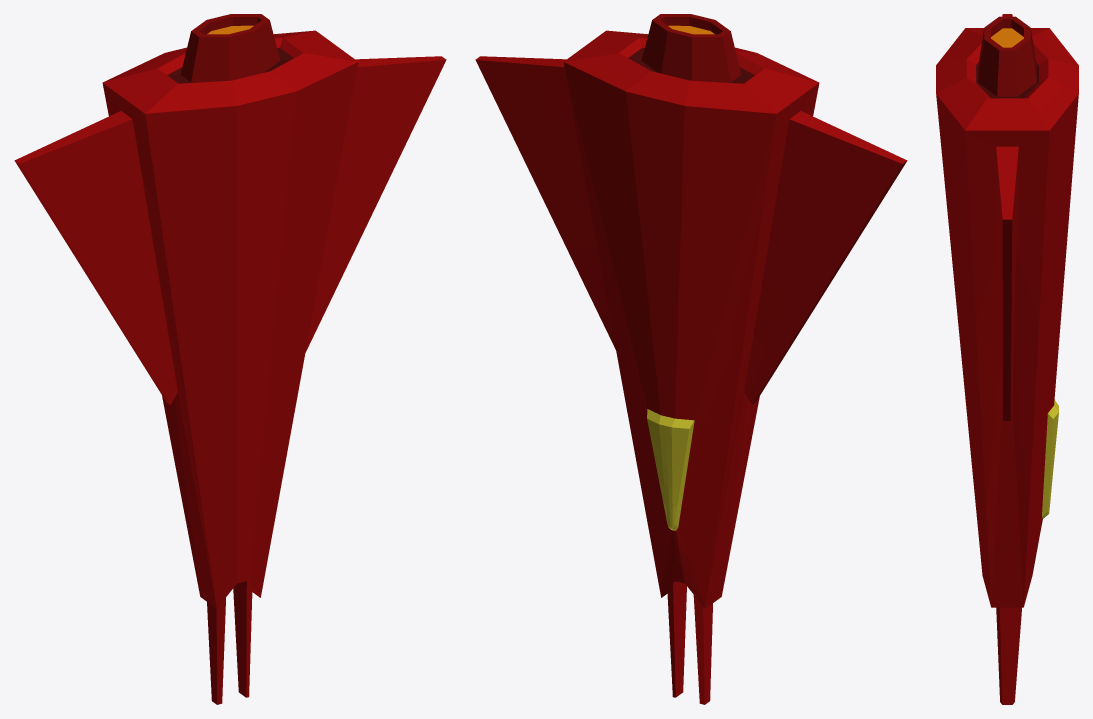
The model's file is enemyship2.fbx.
3 views of the same model, side by side, from view 1: azimuth 30°, elevation 25°; view 2: azimuth 150°, elevation 25°; view 3: azimuth 270°, elevation 25° (orthographic).
Parts seen in each view (by area): view 1: playership; view 2: playership; view 3: playership.
Boxes of the visible parts, x1,y1,x2,y2 form: playership: [14, 14, 446, 704]; playership: [475, 14, 907, 704]; playership: [936, 14, 1078, 704].
Bounding box in the file's own units: 201 × 302 × 58.96.
